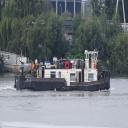tugboat: (15, 49, 113, 99)
